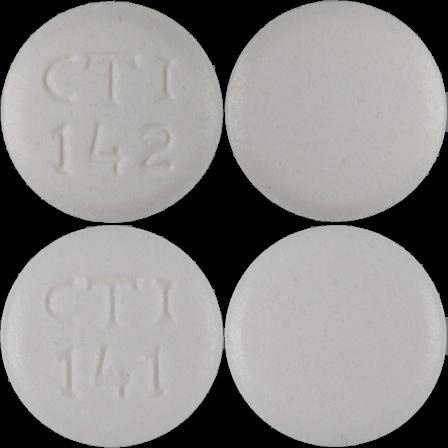60760-370: (0, 0, 224, 224)
